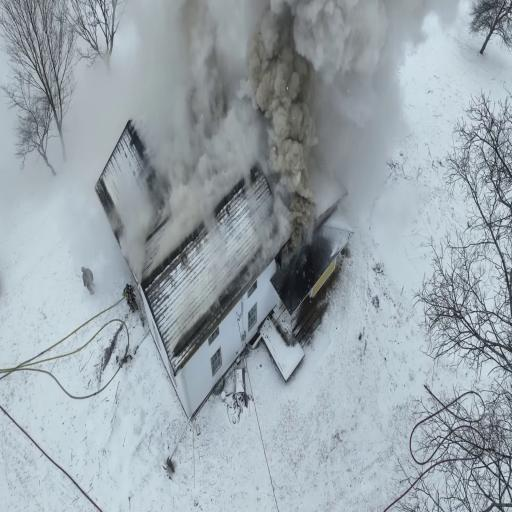smoke: (254, 11, 313, 254), (180, 8, 223, 158)
